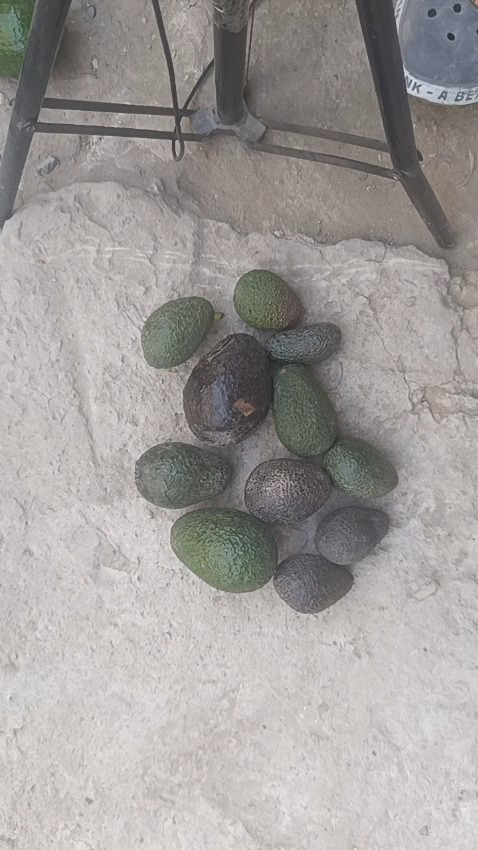Primera: (185, 336, 274, 447), (173, 508, 281, 593)
Segunda: (271, 367, 340, 460), (137, 446, 235, 511), (244, 460, 333, 527)
Tercera: (143, 296, 215, 369), (322, 440, 398, 507), (274, 553, 355, 614), (315, 507, 391, 568), (233, 270, 304, 332), (265, 327, 343, 370)
